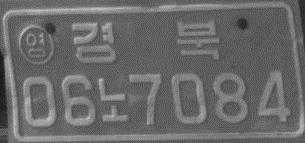0: (170, 70, 208, 124), (21, 75, 56, 129)
4: (257, 70, 291, 125)
6: (60, 74, 97, 128)
7: (128, 72, 164, 125)
8: (212, 72, 249, 125)
경북_D: (70, 19, 221, 65)
노: (96, 76, 130, 124)
영: (17, 24, 55, 65)
